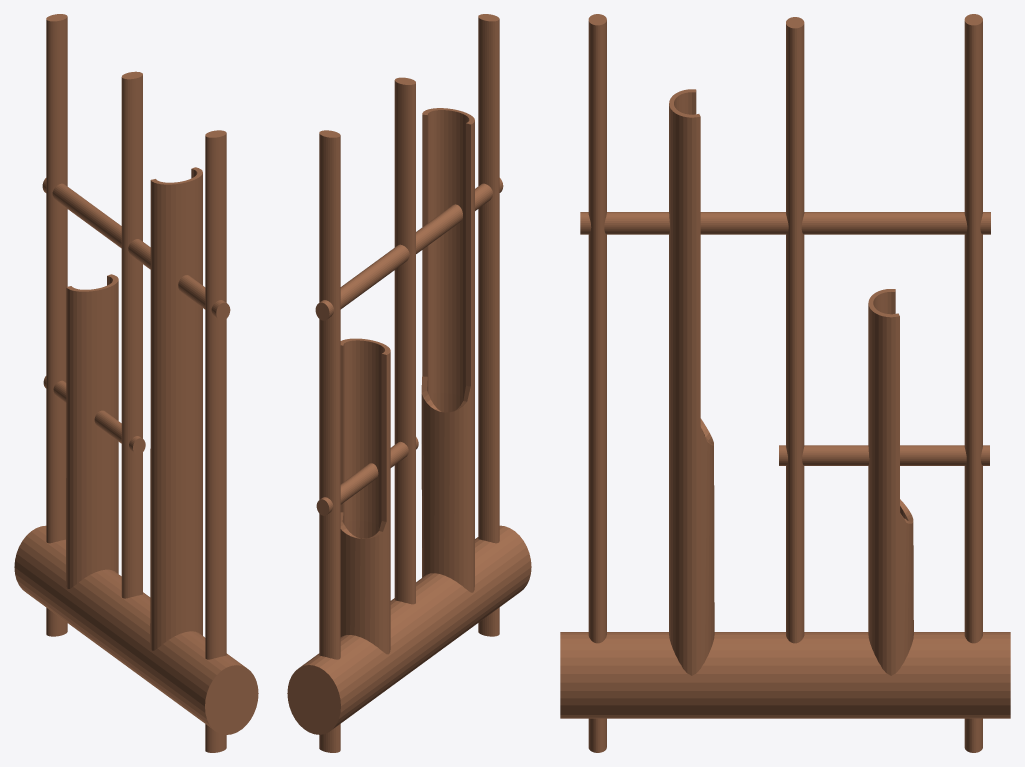
File: anklung_java.glb
The picture shows the model from 3 angles, left to right: view 1: azimuth 30°, elevation 25°; view 2: azimuth 150°, elevation 25°; view 3: azimuth 270°, elevation 25°; orthographic projection. The views are drawn at different scales.
Visible parts, largest first — view 1: Cylinder.002, Cylinder, Cylinder.006, Cylinder.001, Cylinder.003, Cylinder.004, Cylinder.005, Cylinder.007; view 2: Cylinder.002, Cylinder, Cylinder.006, Cylinder.001, Cylinder.003, Cylinder.004, Cylinder.005, Cylinder.007; view 3: Cylinder, Cylinder.002, Cylinder.006, Cylinder.001, Cylinder.003, Cylinder.004, Cylinder.005, Cylinder.007.
Boxes of the visible parts, <box> form: Cylinder.002: <box>150,167,202,650</box>; Cylinder: <box>14,525,258,734</box>; Cylinder.006: <box>66,274,118,588</box>; Cylinder.001: <box>205,130,226,752</box>; Cylinder.003: <box>46,14,67,636</box>; Cylinder.004: <box>121,71,142,598</box>; Cylinder.005: <box>42,178,230,320</box>; Cylinder.007: <box>43,376,145,454</box>; Cylinder.002: <box>421,108,474,592</box>; Cylinder: <box>287,525,531,734</box>; Cylinder.006: <box>340,338,390,654</box>; Cylinder.001: <box>478,14,499,636</box>; Cylinder.003: <box>319,130,340,752</box>; Cylinder.004: <box>394,77,415,604</box>; Cylinder.005: <box>315,178,503,320</box>; Cylinder.007: <box>316,437,418,515</box>; Cylinder: <box>560,632,1010,718</box>; Cylinder.002: <box>669,89,714,675</box>; Cylinder.006: <box>868,289,913,675</box>; Cylinder.001: <box>588,14,606,752</box>; Cylinder.003: <box>964,14,982,752</box>; Cylinder.004: <box>786,17,804,643</box>; Cylinder.005: <box>580,212,990,234</box>; Cylinder.007: <box>779,445,989,465</box>.
Size of the model in its own units: 0.9114 by 10 by 5.61.
